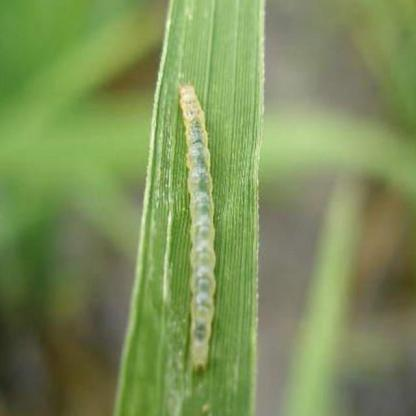leaf-folder: (148, 66, 238, 388)
